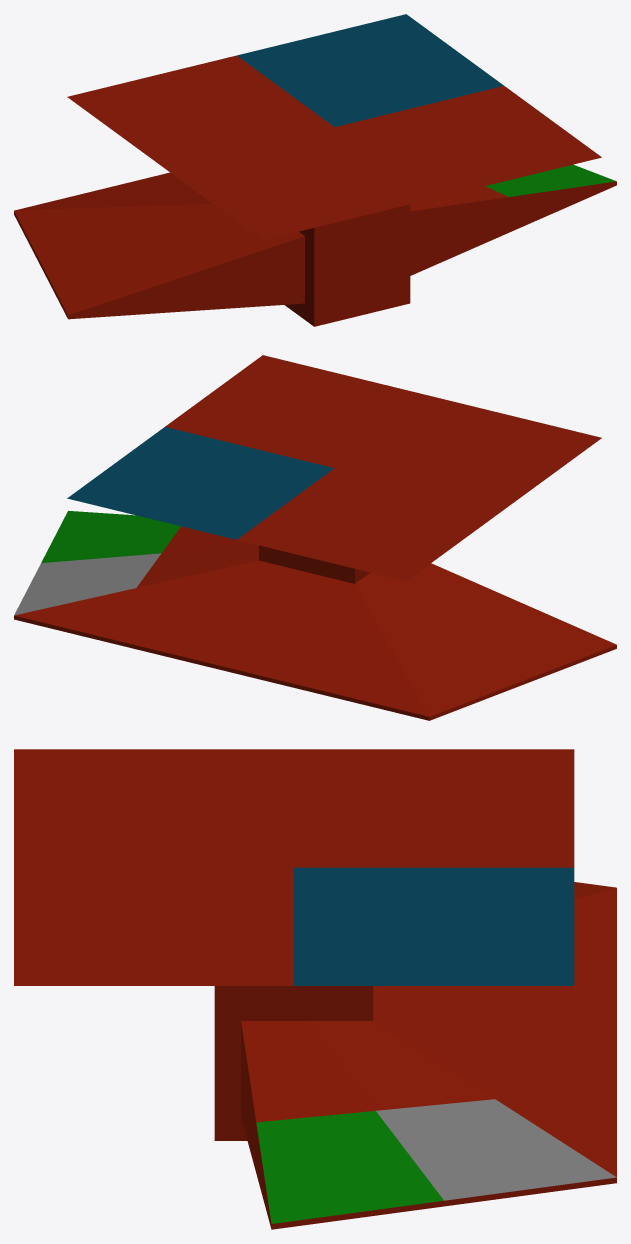
Rendered from experiment-4.glb.
3 renders of one model, top to bottom at view 1: azimuth 30°, elevation 25°; view 2: azimuth 150°, elevation 25°; view 3: azimuth 270°, elevation 25°, orthographic. The views are drawn at different scales.
Parts seen in each view (by area): view 1: Cube; view 2: Cube; view 3: Cube.
Part boxes in pixels (box(x1,y1,x2,y2)): Cube: box(14, 14, 616, 326); Cube: box(14, 355, 616, 720); Cube: box(14, 749, 616, 1229).
Size of the model in its own units: 11.42 by 3.33 by 7.6.
Materials: 1 (1 with a texture image).
